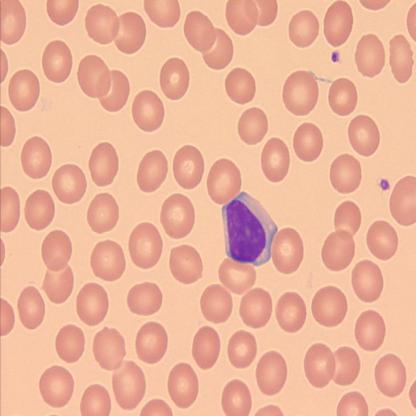Atypical lymphocyte: (222, 190, 279, 266)
